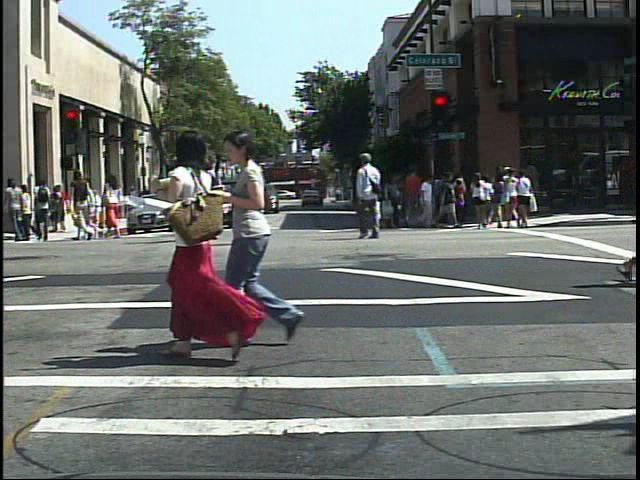person: (138, 128, 256, 358), (222, 125, 321, 350), (162, 154, 199, 244), (355, 149, 388, 242), (493, 163, 532, 232), (199, 155, 228, 245), (68, 166, 96, 244), (101, 170, 129, 242), (470, 169, 494, 233), (33, 177, 55, 244), (4, 178, 26, 244)
